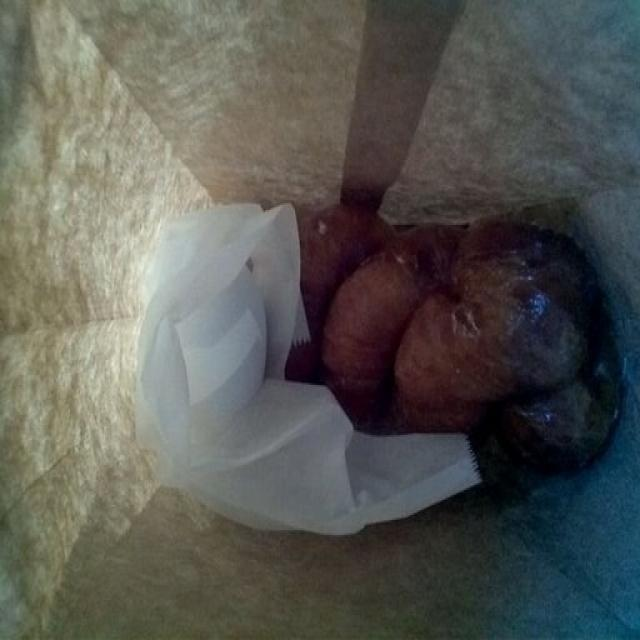Donuts: (272, 193, 640, 619)
